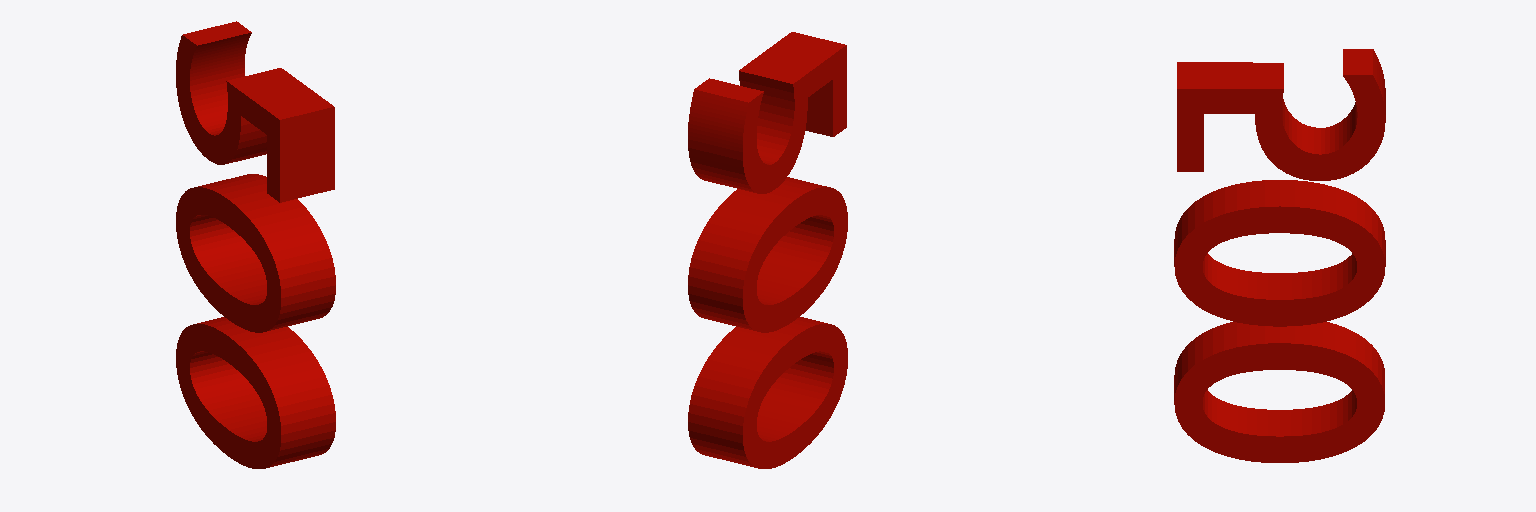
Rendered from artifact_500.obj.
3 renders of one model, left to right at view 1: azimuth 30°, elevation 25°; view 2: azimuth 150°, elevation 25°; view 3: azimuth 270°, elevation 25°, orthographic.
Visible parts, largest first — view 1: Text_Mesh; view 2: Text_Mesh; view 3: Text_Mesh.
Boxes of the visible parts, box(x1,y1,x2,y2) form: Text_Mesh: box(176, 21, 335, 468); Text_Mesh: box(688, 32, 847, 468); Text_Mesh: box(1174, 49, 1385, 462).
Size of the model in its own units: 0.4192 by 2.84 by 1.4.